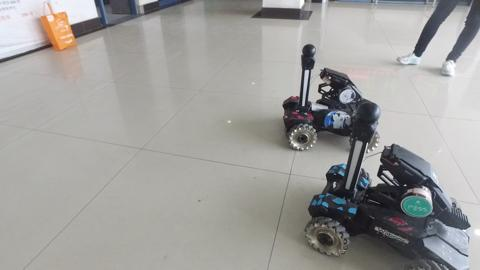chariot: (288, 98, 479, 270), (279, 39, 388, 155)
